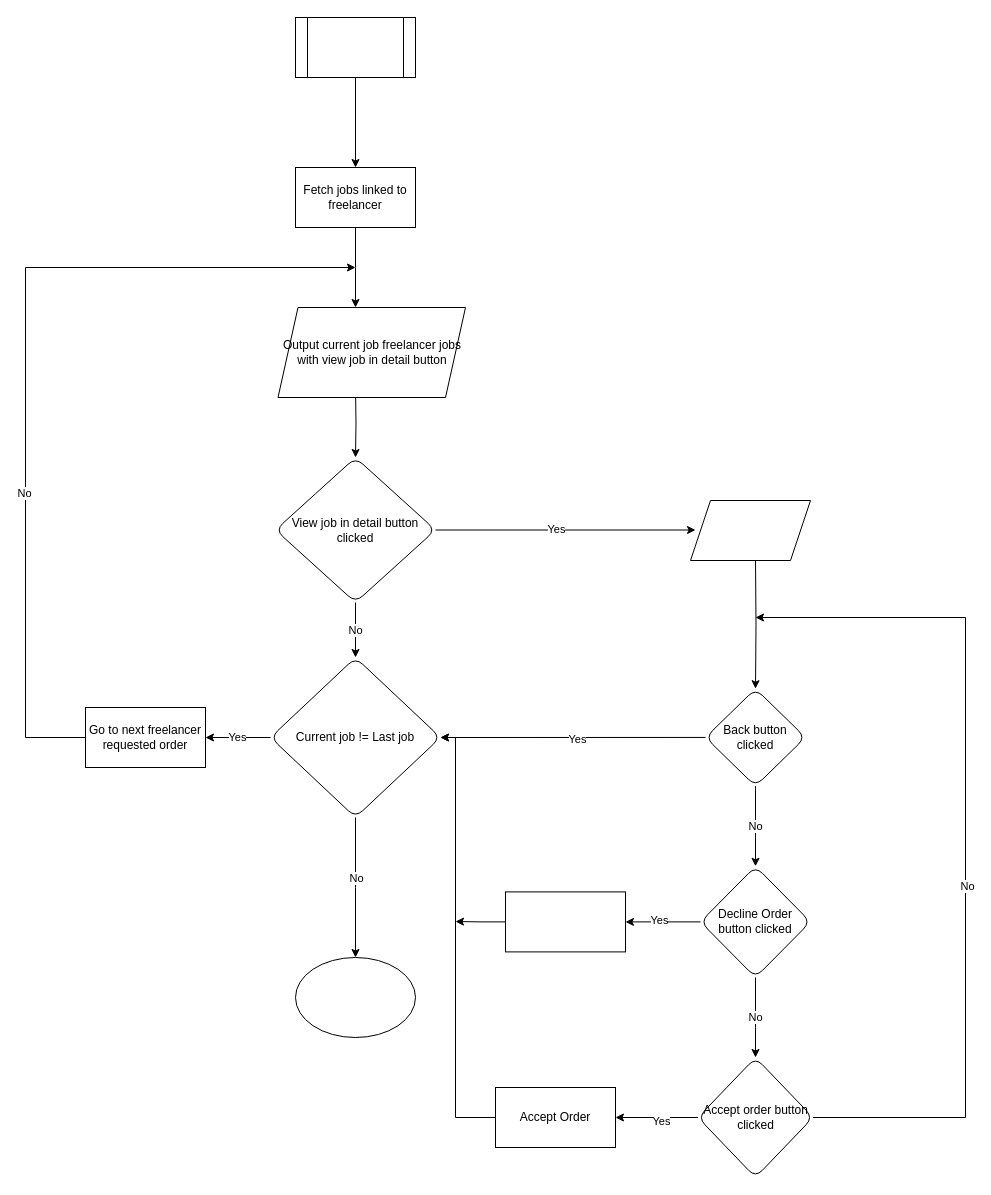
This 991x1195 diagram has some shape labels left out. Each missing label, with the centre of its shape:
"Decline Order" goes at point (565, 921).
"Output job in detail" goes at point (750, 530).
"Stop" goes at point (355, 997).
"Viewing Jobs Screen" goes at point (355, 47).
